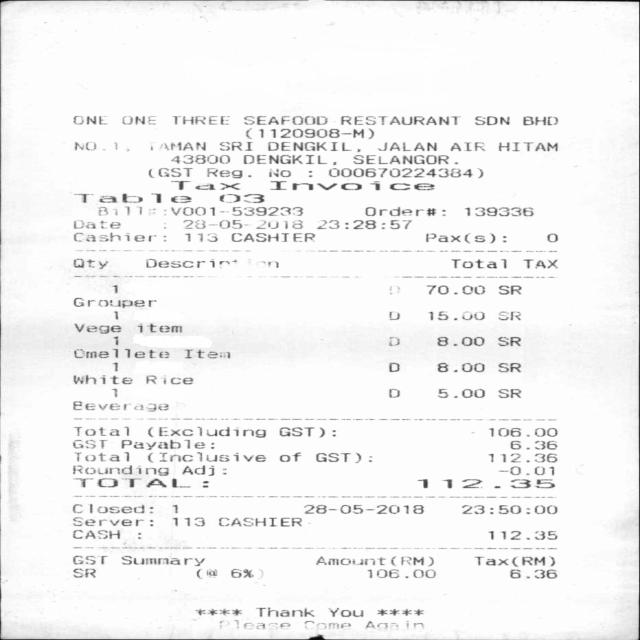text: (328, 166, 482, 178), (269, 180, 433, 190), (416, 478, 555, 489), (72, 478, 206, 489), (146, 425, 264, 437), (169, 206, 303, 216), (146, 451, 263, 462), (245, 128, 373, 138), (339, 115, 459, 125), (181, 219, 300, 229), (145, 258, 277, 267), (74, 192, 190, 202), (72, 464, 168, 476), (350, 154, 455, 164), (455, 505, 558, 515), (268, 141, 359, 152), (73, 296, 155, 308), (72, 401, 169, 411), (415, 232, 495, 244), (316, 219, 411, 229), (73, 348, 168, 358), (72, 232, 166, 242), (120, 555, 204, 566), (243, 154, 335, 164), (121, 439, 213, 449), (231, 232, 316, 242), (242, 115, 325, 125), (364, 206, 444, 216), (476, 556, 553, 566), (216, 517, 300, 526), (278, 425, 335, 438), (215, 620, 288, 630), (169, 180, 238, 190), (488, 453, 556, 463), (488, 530, 556, 540), (428, 310, 483, 322), (448, 258, 507, 269), (72, 505, 152, 513), (485, 428, 555, 437), (302, 504, 372, 513), (312, 556, 382, 565), (463, 207, 531, 216), (366, 569, 434, 578), (254, 606, 313, 616), (72, 518, 145, 526), (72, 425, 125, 436), (424, 284, 482, 294), (73, 374, 131, 384), (362, 620, 424, 629), (74, 451, 128, 461), (498, 465, 552, 475), (146, 166, 190, 178), (498, 142, 556, 151), (377, 142, 435, 151), (171, 154, 229, 163), (97, 206, 154, 215), (74, 323, 120, 334), (314, 452, 360, 463), (74, 141, 128, 150), (388, 555, 432, 566), (375, 504, 423, 514), (72, 530, 120, 540), (436, 362, 483, 372), (144, 374, 191, 384), (182, 348, 228, 358), (72, 256, 107, 269), (136, 323, 181, 333), (438, 388, 483, 398), (172, 116, 228, 124), (149, 142, 205, 150), (182, 465, 226, 475), (207, 168, 250, 178), (436, 337, 483, 346), (304, 620, 351, 629), (510, 440, 556, 449), (509, 569, 555, 578), (217, 193, 262, 202), (522, 258, 557, 269), (73, 220, 119, 228), (376, 608, 422, 616), (195, 608, 240, 616), (520, 115, 555, 125), (71, 554, 106, 564), (218, 141, 252, 151), (182, 232, 215, 242), (71, 439, 104, 449), (169, 517, 205, 526), (492, 284, 524, 294), (472, 116, 507, 125), (449, 142, 484, 151), (327, 607, 362, 616), (494, 310, 518, 322), (71, 116, 104, 124), (121, 116, 154, 124), (497, 336, 520, 346), (497, 362, 520, 372), (497, 388, 520, 398), (231, 568, 252, 578), (280, 452, 300, 462), (196, 568, 216, 578), (73, 568, 94, 577), (268, 168, 290, 176), (545, 233, 556, 244), (385, 285, 398, 294), (386, 310, 397, 320), (386, 336, 397, 346), (386, 362, 397, 372), (386, 388, 397, 398), (170, 504, 180, 514), (110, 361, 118, 372), (111, 335, 119, 345), (110, 284, 118, 292), (112, 311, 119, 320), (111, 388, 117, 397)
